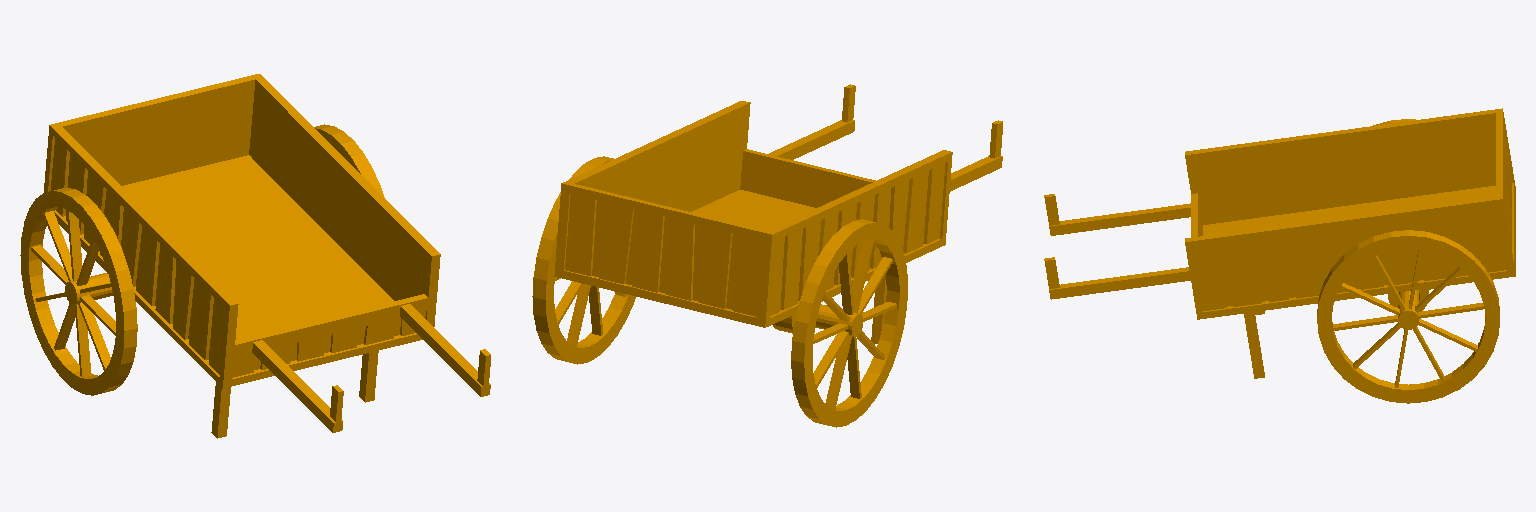
URDF robot description (mesh_object):
<robot name="mesh_object">
            <link name="base">
                <visual>
                    <geometry>
                        <mesh filename="barrow_1_v000.obj" scale="1 1 1" />
                    </geometry>
                </visual>
                <collision>
                    <geometry>
                        <mesh filename="barrow_1_v000.obj" scale="1 1 1" />
                    </geometry>
                </collision>
                <inertial>
                    <origin xyz="0.000000 0.000000 0.023848" rpy="0 0 0" />
                    <mass value="0.500000" />
                    <inertia ixx="0.01" iyy="0.01" izz="0.01" ixy="0" ixz="0" iyz="0" />
                </inertial>
            </link>
            </robot>

--- Render facts (derived) ---
Views: 3 orthographic renders of the robot side by side, from view 1: azimuth 30°, elevation 25°; view 2: azimuth 150°, elevation 25°; view 3: azimuth 270°, elevation 25°.
Model mesh_object with 1 links and 0 joints (none), rooted at base, posed every joint at zero.
Visible links, largest first — view 1: base; view 2: base; view 3: base.
Link boxes in pixels (bbox=[...]): base: bbox=[20, 74, 490, 438]; base: bbox=[532, 84, 1002, 427]; base: bbox=[1044, 108, 1515, 403].
Size in the robot's own frame: 0.0595 by 0.1003 by 0.045 metres.
Meshes: 1 distinct files referenced, 1 mesh visuals loaded (1 OBJ).
